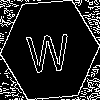W: (25, 25, 71, 74)
